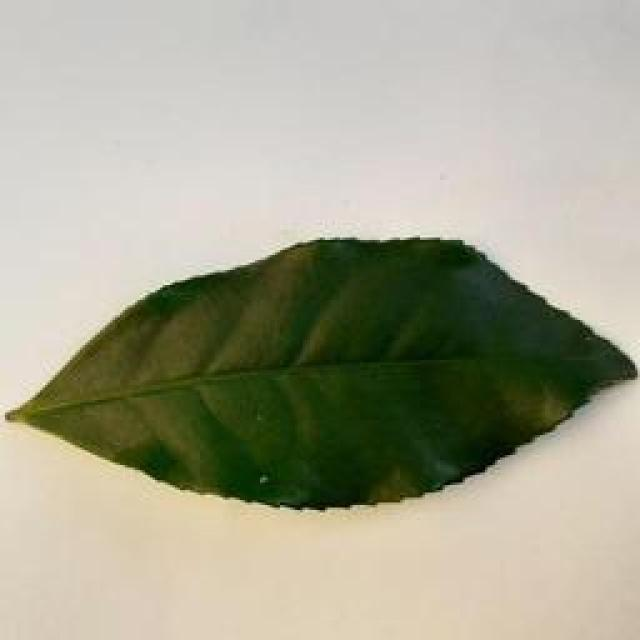Healthy: (2, 231, 640, 520)
